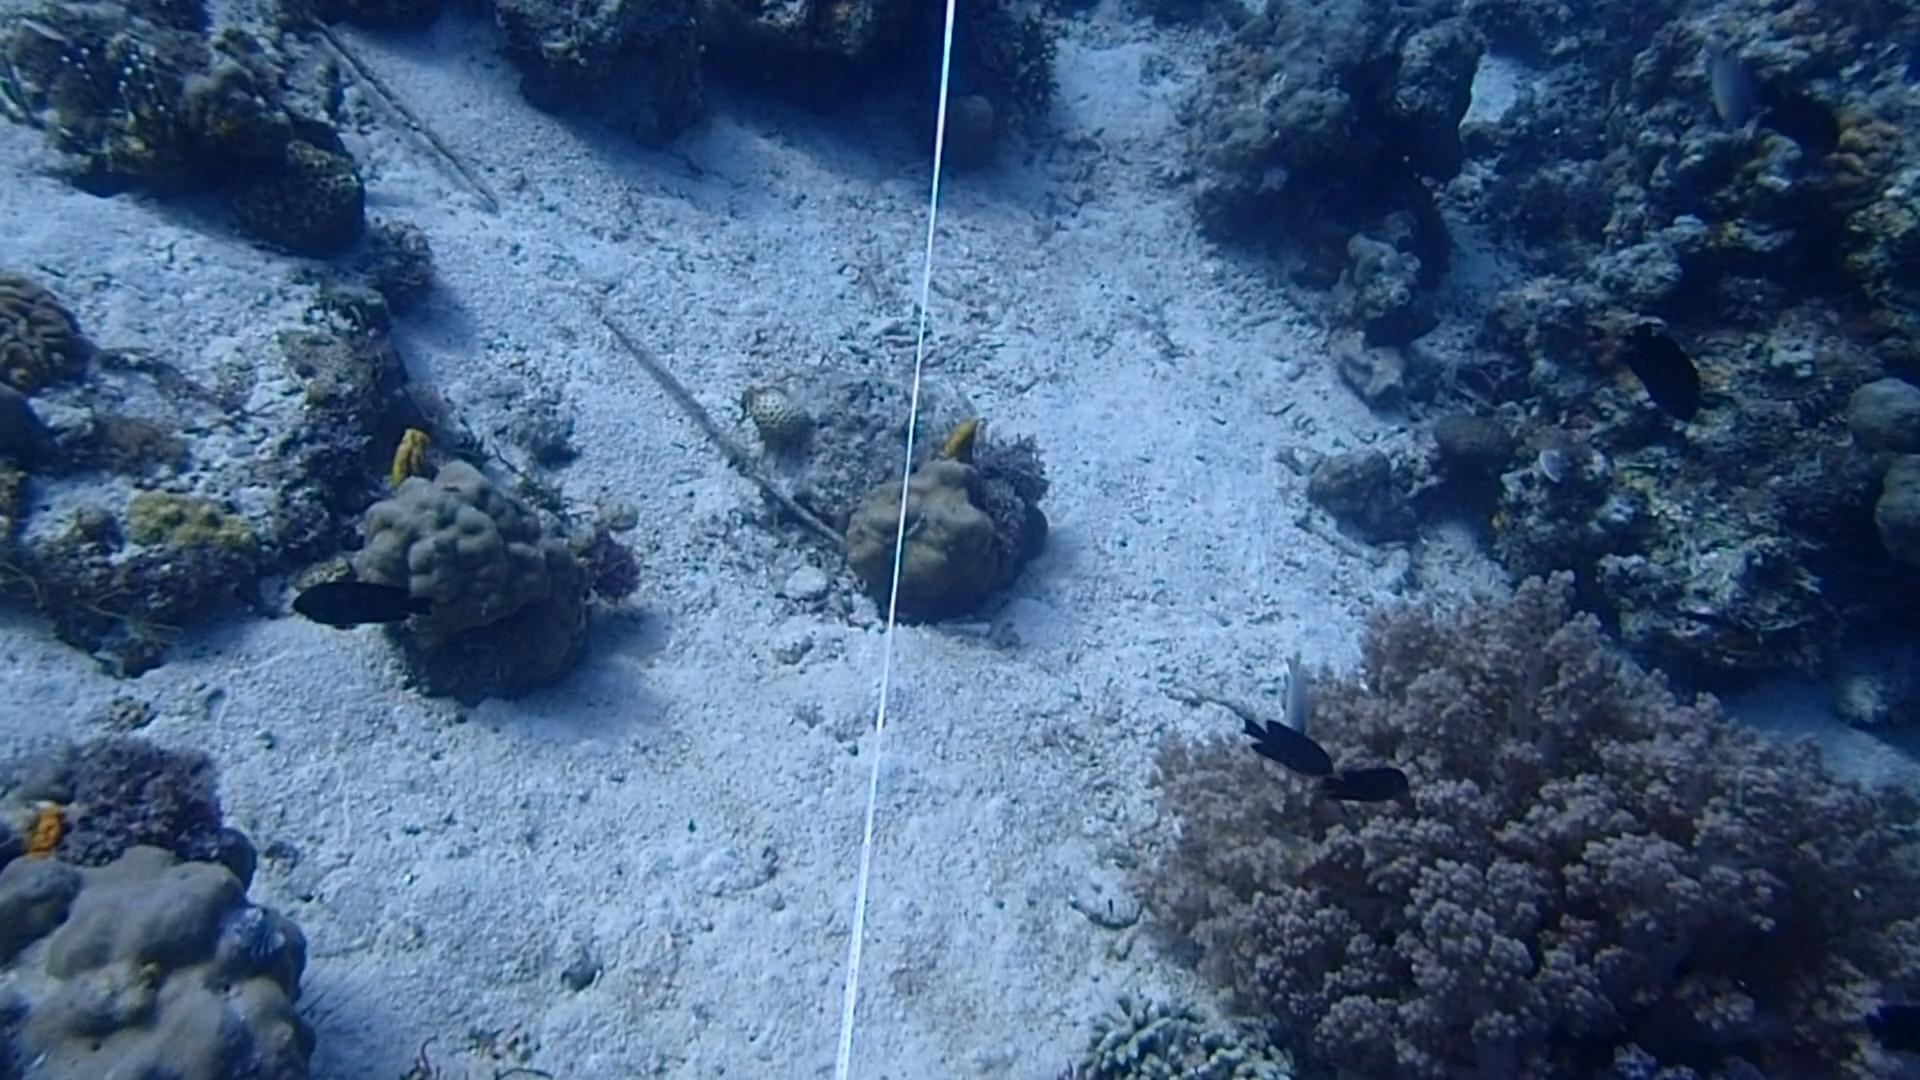Dark Fish: (1607, 322, 1721, 426), (295, 567, 430, 645), (1226, 713, 1345, 793), (1299, 749, 1423, 819), (1764, 58, 1842, 166), (1862, 1005, 1920, 1072)
Light Fish: (1683, 29, 1768, 129), (1263, 651, 1320, 742)
